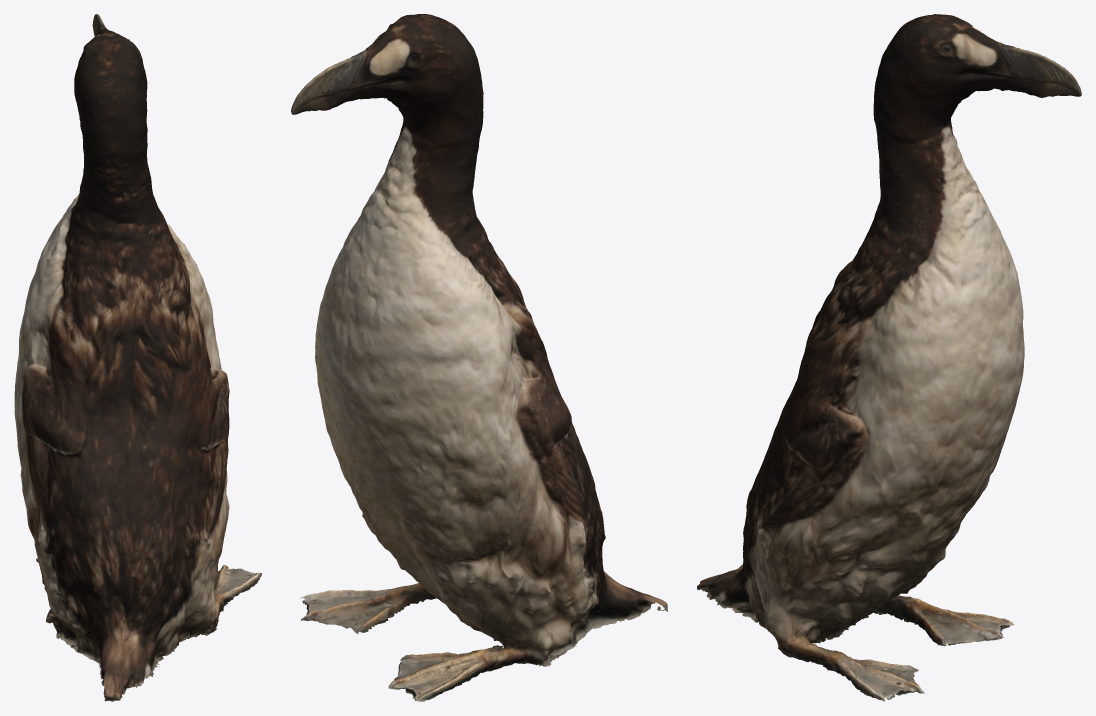
The model's file is geirfugl__great_auk.glb.
The picture shows the model from 3 angles, left to right: view 1: azimuth 30°, elevation 25°; view 2: azimuth 150°, elevation 25°; view 3: azimuth 270°, elevation 25°; orthographic projection. The views are drawn at different scales.
Parts seen in each view (by area): view 1: Model; view 2: Model; view 3: Model.
Boxes of the visible parts, bbox=[...] form: Model: bbox=[14, 14, 261, 701]; Model: bbox=[291, 14, 667, 701]; Model: bbox=[697, 14, 1081, 701].
Bounding box in the file's own units: 0.3411 × 0.7661 × 0.4275.
Materials: 1 (1 with a texture image).
